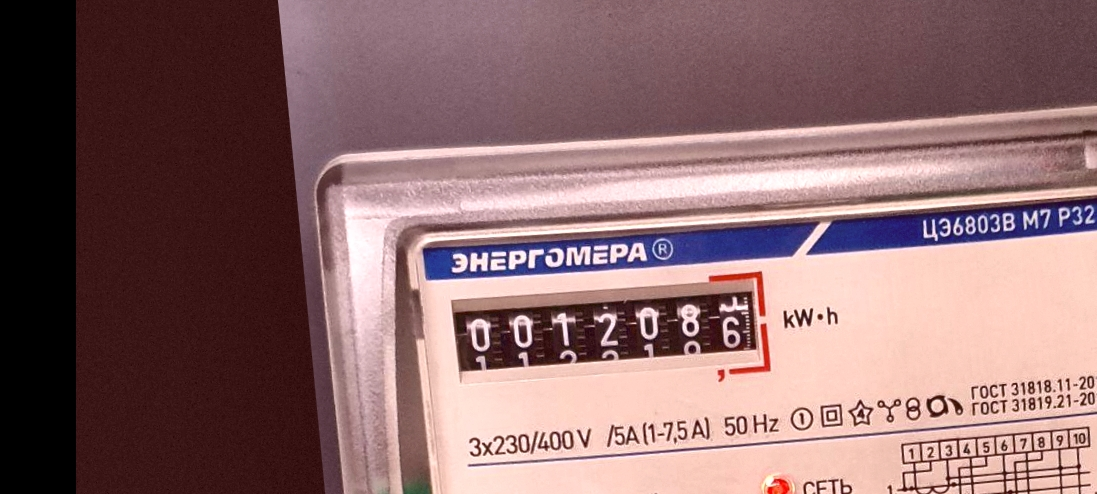0: (465, 312, 495, 354), (509, 310, 537, 349), (634, 302, 662, 341)
1: (551, 308, 576, 348)
2: (594, 308, 623, 348)
6: (718, 312, 744, 350)
8: (675, 299, 704, 339)
screen: (443, 262, 782, 406)
